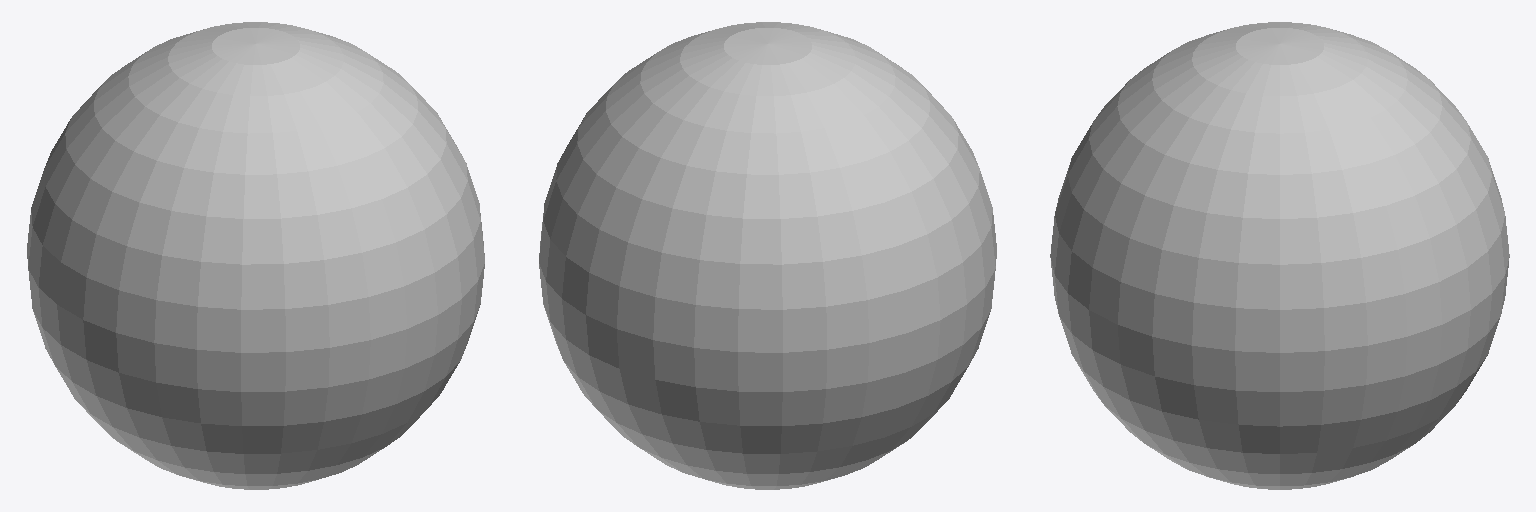
Rendered from smoothSphere.obj.
The picture shows the model from 3 angles: view 1: azimuth 30°, elevation 25°; view 2: azimuth 150°, elevation 25°; view 3: azimuth 270°, elevation 25°; orthographic projection.
Parts seen in each view (by area): view 1: Esfera; view 2: Esfera; view 3: Esfera.
Part boxes in pixels (x1,y1,x2,y2): Esfera: (27, 22, 484, 489); Esfera: (539, 22, 996, 489); Esfera: (1050, 22, 1509, 489).
Bounding box in the file's own units: 1.94 × 1.98 × 1.94.